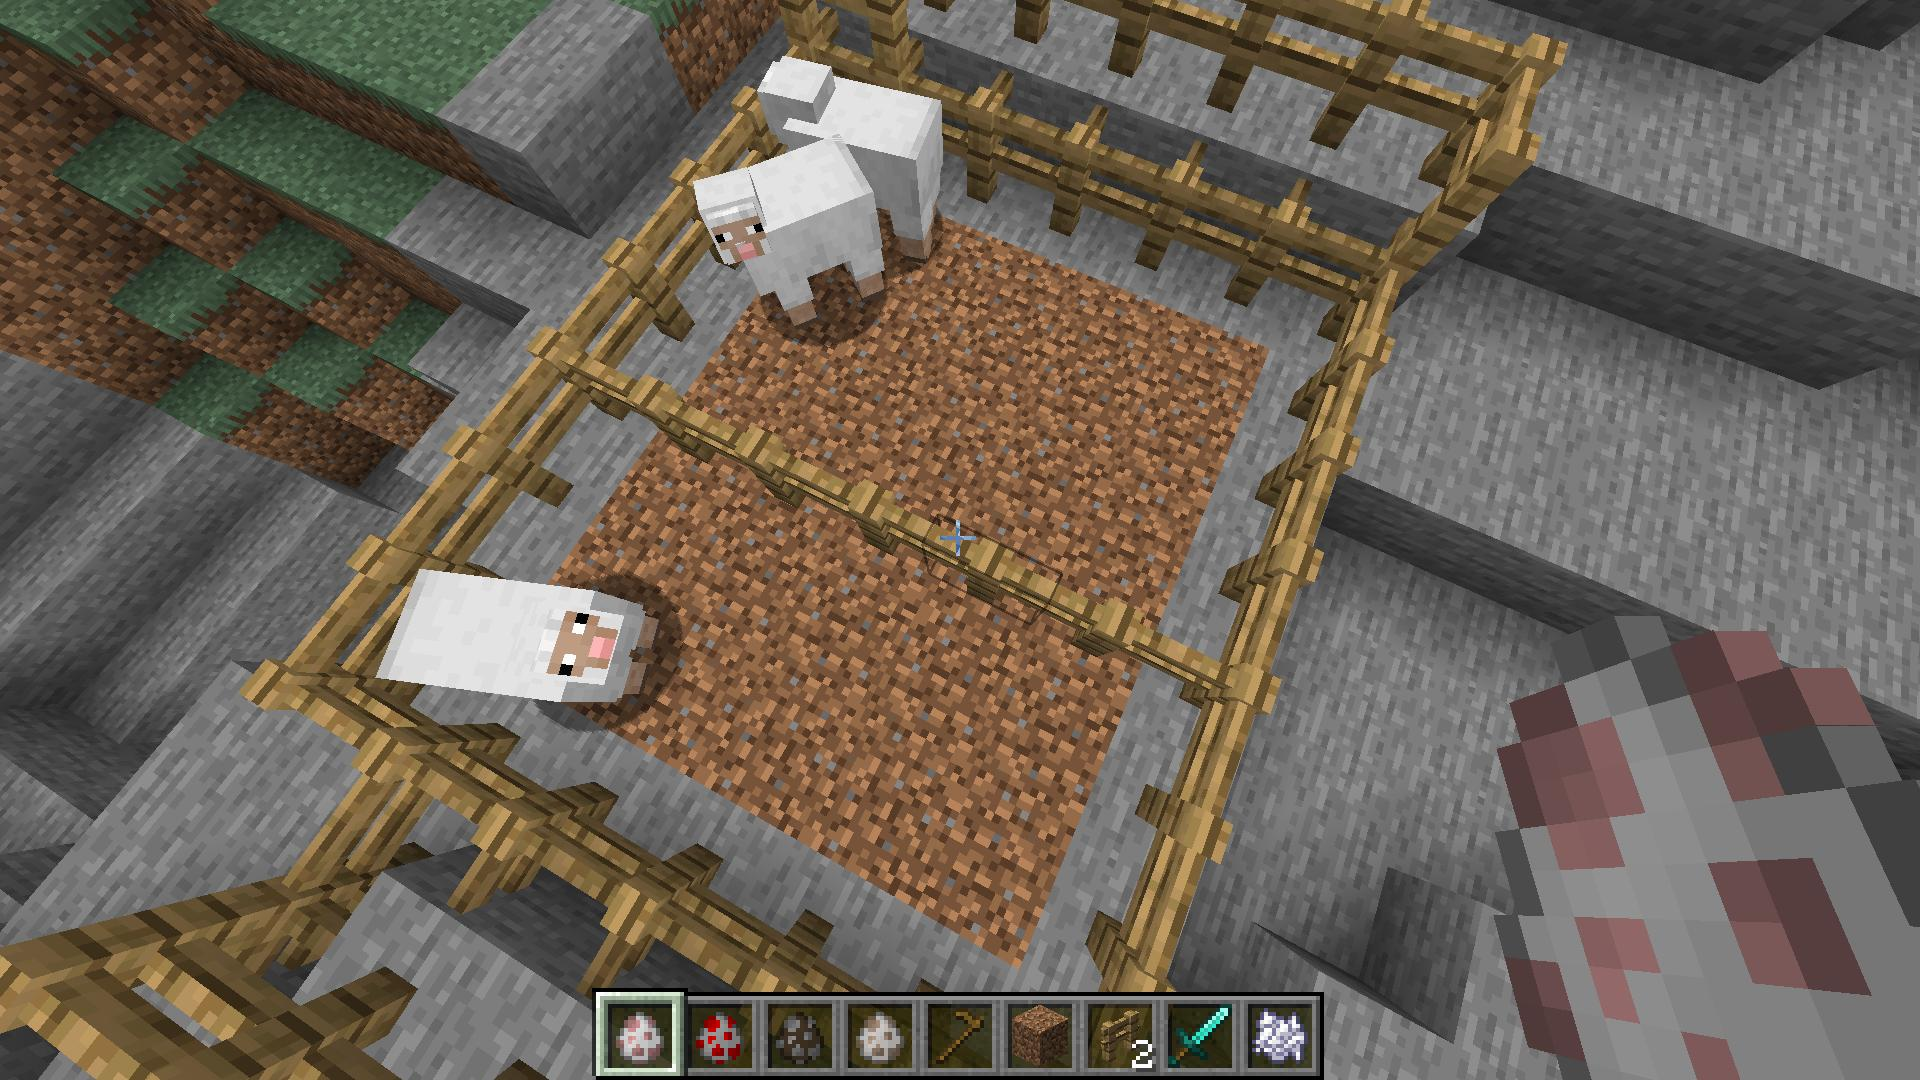sheep: (373, 566, 663, 720), (753, 53, 952, 264), (683, 127, 889, 330)
